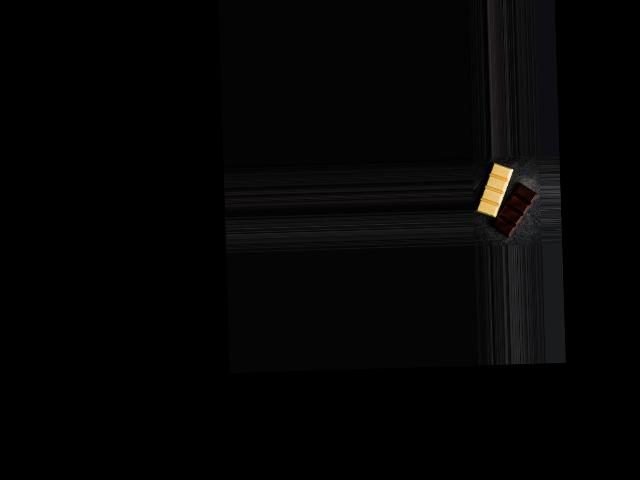chocolate: (475, 158, 537, 237)
